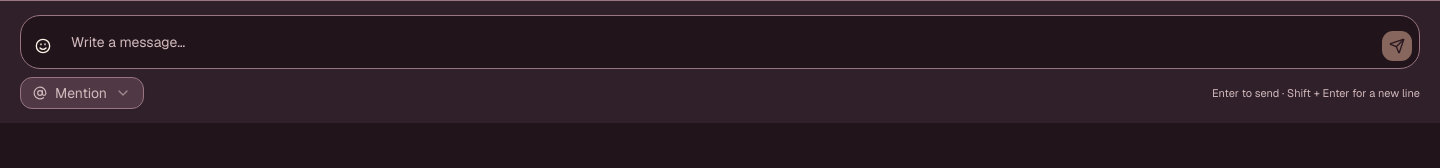
Test: MessageComposer › surfaces a not-member outcome
The width and height of the screenshot is (1440, 168).
In the text box labelled "message": point(720, 42) 65,22 -> 1375,62, type "Hello."
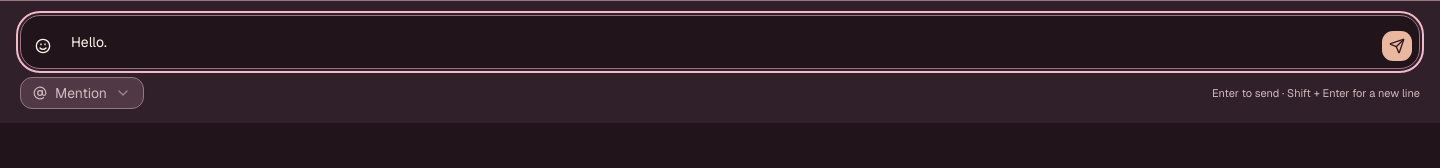
Click the button named "Send": point(1397, 46) 1381,30 -> 1413,62
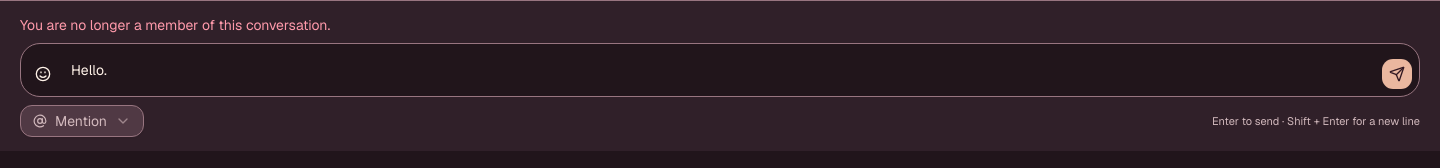
Result: the text "You are no longer a member of this conversation." is shown at 20,16 -> 330,34
